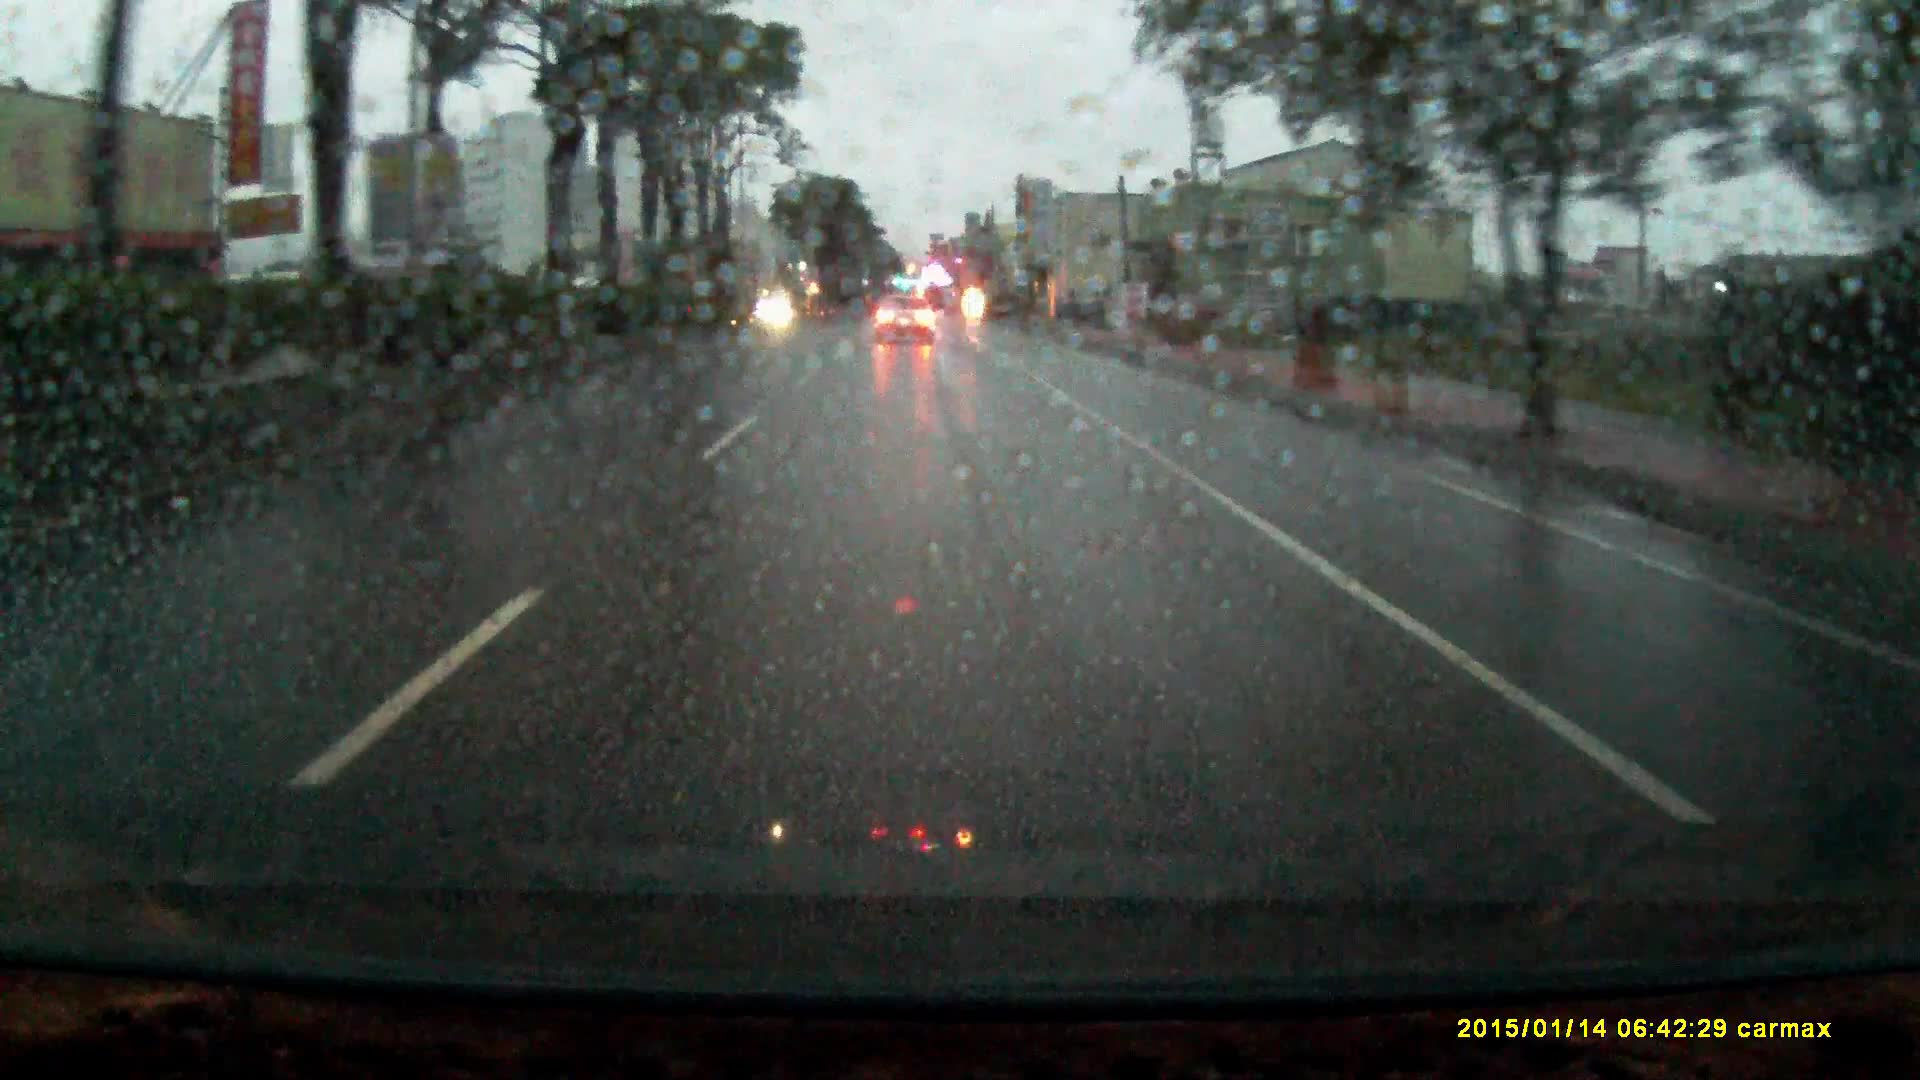vehicle: (876, 295, 936, 344)
